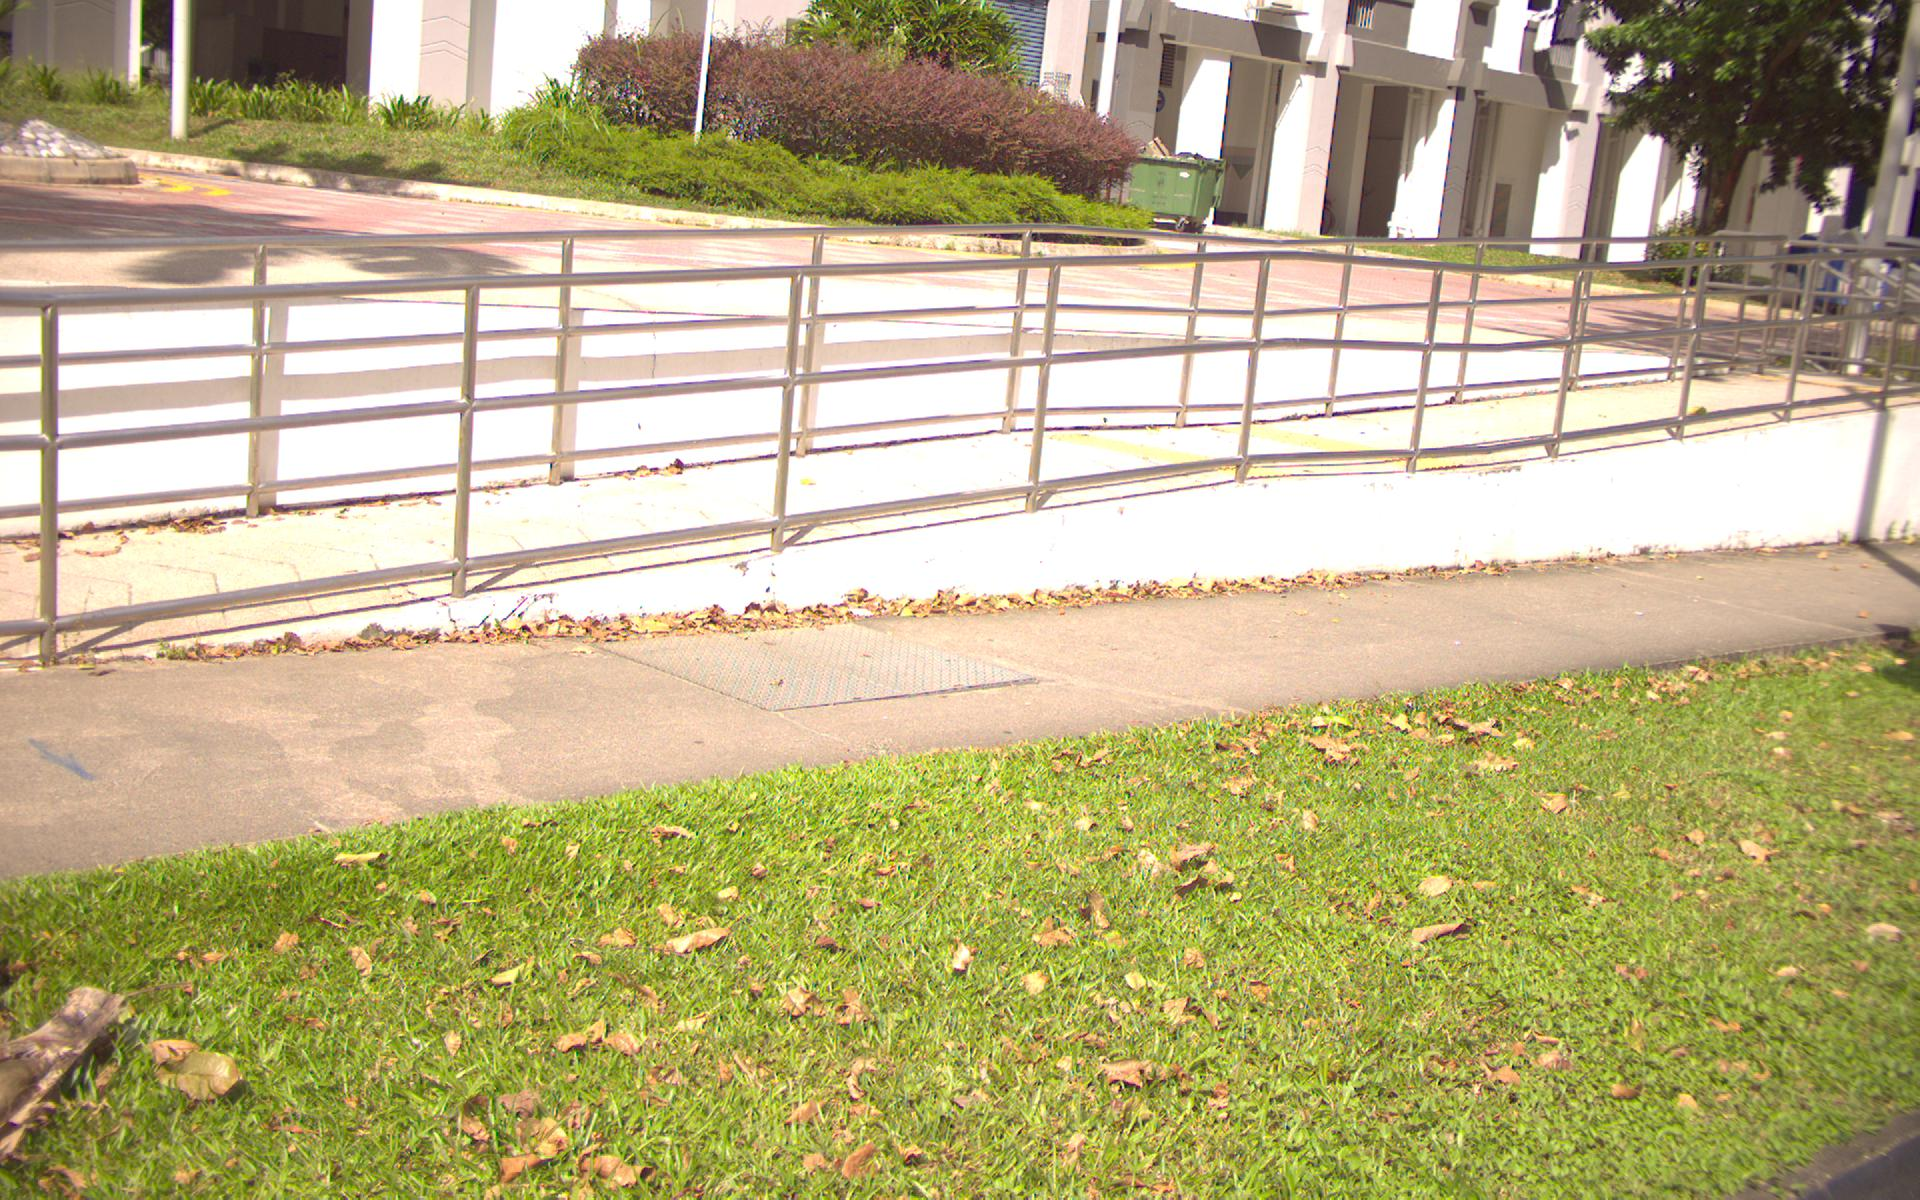pathway_low: (908, 606, 1406, 711)
road_turf_low: (184, 871, 1710, 1192)
